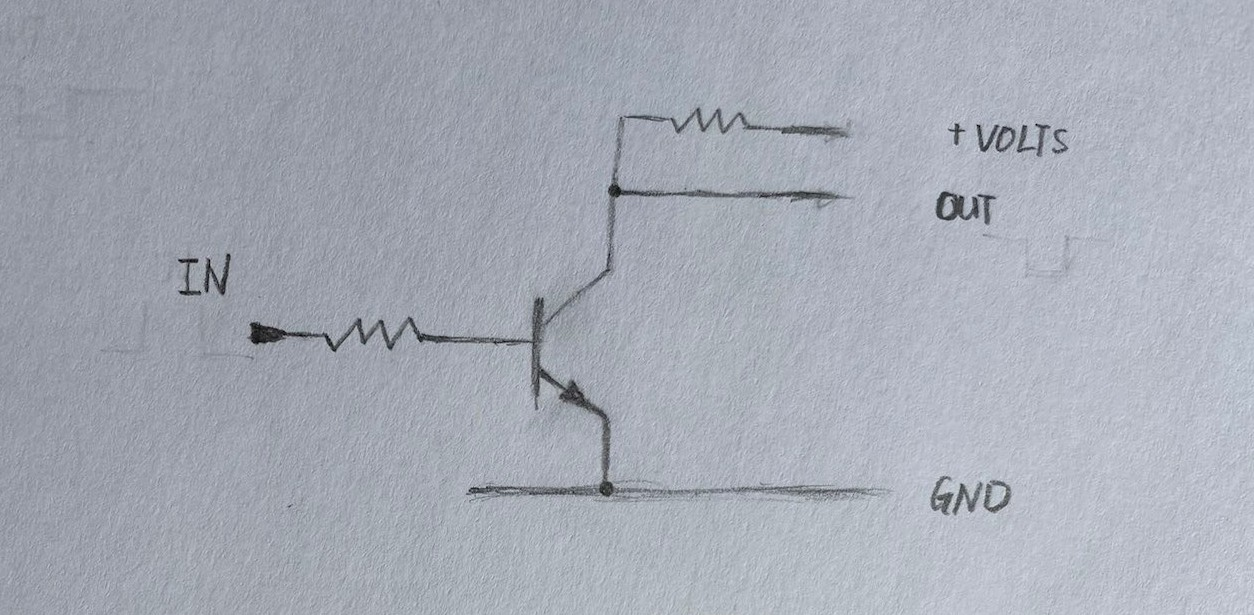junction: (587, 470, 624, 508), (601, 174, 631, 205), (615, 110, 631, 126)
resistor: (314, 310, 433, 363), (659, 100, 759, 147)
terminal: (239, 311, 300, 355), (833, 119, 860, 145), (871, 481, 898, 506), (463, 480, 485, 505), (830, 188, 856, 209)
text: (972, 113, 1075, 163), (924, 468, 1015, 522), (170, 245, 237, 301), (931, 184, 998, 232), (944, 115, 970, 150)
transistor: (513, 260, 634, 434)
